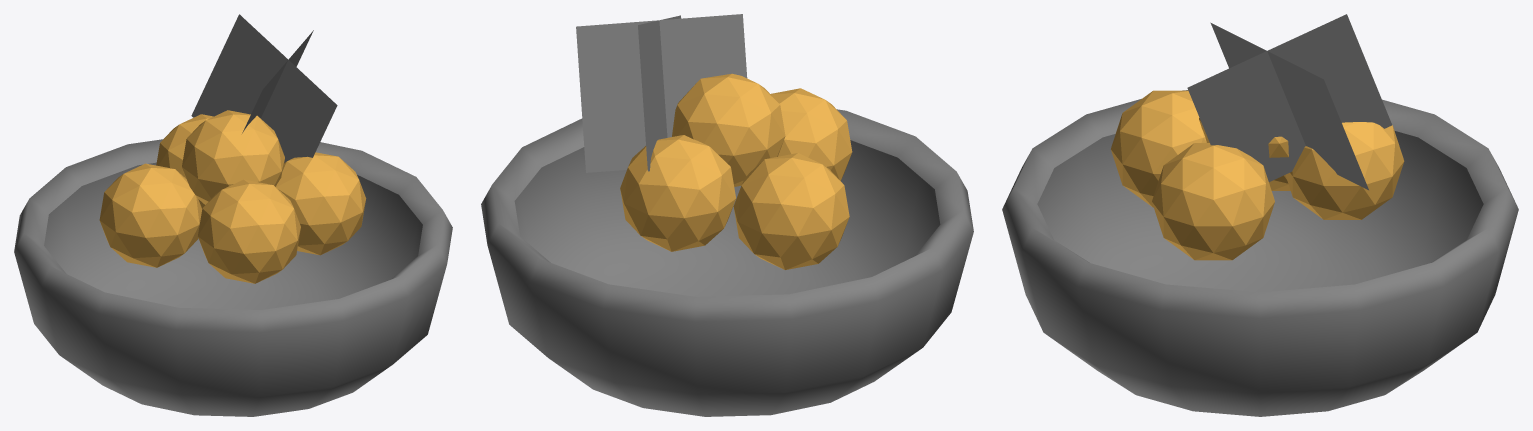
File: fruit-basket.glb
3 views of the same model, side by side, from view 1: azimuth 30°, elevation 25°; view 2: azimuth 150°, elevation 25°; view 3: azimuth 270°, elevation 25° (orthographic). The views are drawn at different scales.
Visible parts, largest first — view 1: basket, leafcard, fruit.004, fruit.001, fruit, fruit.002, fruit.003, leafcard.001; view 2: basket, leafcard.001, fruit.001, fruit.003, fruit, fruit.004, leafcard; view 3: basket, leafcard, fruit.002, fruit.003, fruit.004, leafcard.001.
Boxes of the visible parts, left/top/right/bottom form: basket: left=14, top=139, right=452, bottom=416; leafcard: left=191, top=14, right=337, bottom=162; fruit.004: left=198, top=179, right=300, bottom=283; fruit.001: left=99, top=163, right=202, bottom=267; fruit: left=182, top=110, right=284, bottom=204; fruit.002: left=275, top=152, right=366, bottom=255; fruit.003: left=156, top=114, right=213, bottom=208; leafcard.001: left=242, top=30, right=313, bottom=133; basket: left=481, top=109, right=973, bottom=416; leafcard.001: left=576, top=14, right=747, bottom=172; fruit.001: left=733, top=153, right=849, bottom=269; fruit.003: left=620, top=135, right=735, bottom=251; fruit: left=672, top=73, right=785, bottom=186; fruit.004: left=770, top=88, right=852, bottom=180; leafcard: left=638, top=15, right=681, bottom=171; basket: left=1002, top=90, right=1518, bottom=416; leafcard: left=1187, top=14, right=1391, bottom=181; fruit.002: left=1152, top=143, right=1274, bottom=260; fruit.003: left=1285, top=122, right=1404, bottom=219; fruit.004: left=1111, top=90, right=1206, bottom=207; leafcard.001: left=1210, top=22, right=1368, bottom=190.
Size of the model in its own units: 0.88 by 0.6731 by 0.88.
3 materials, 2 textured.
